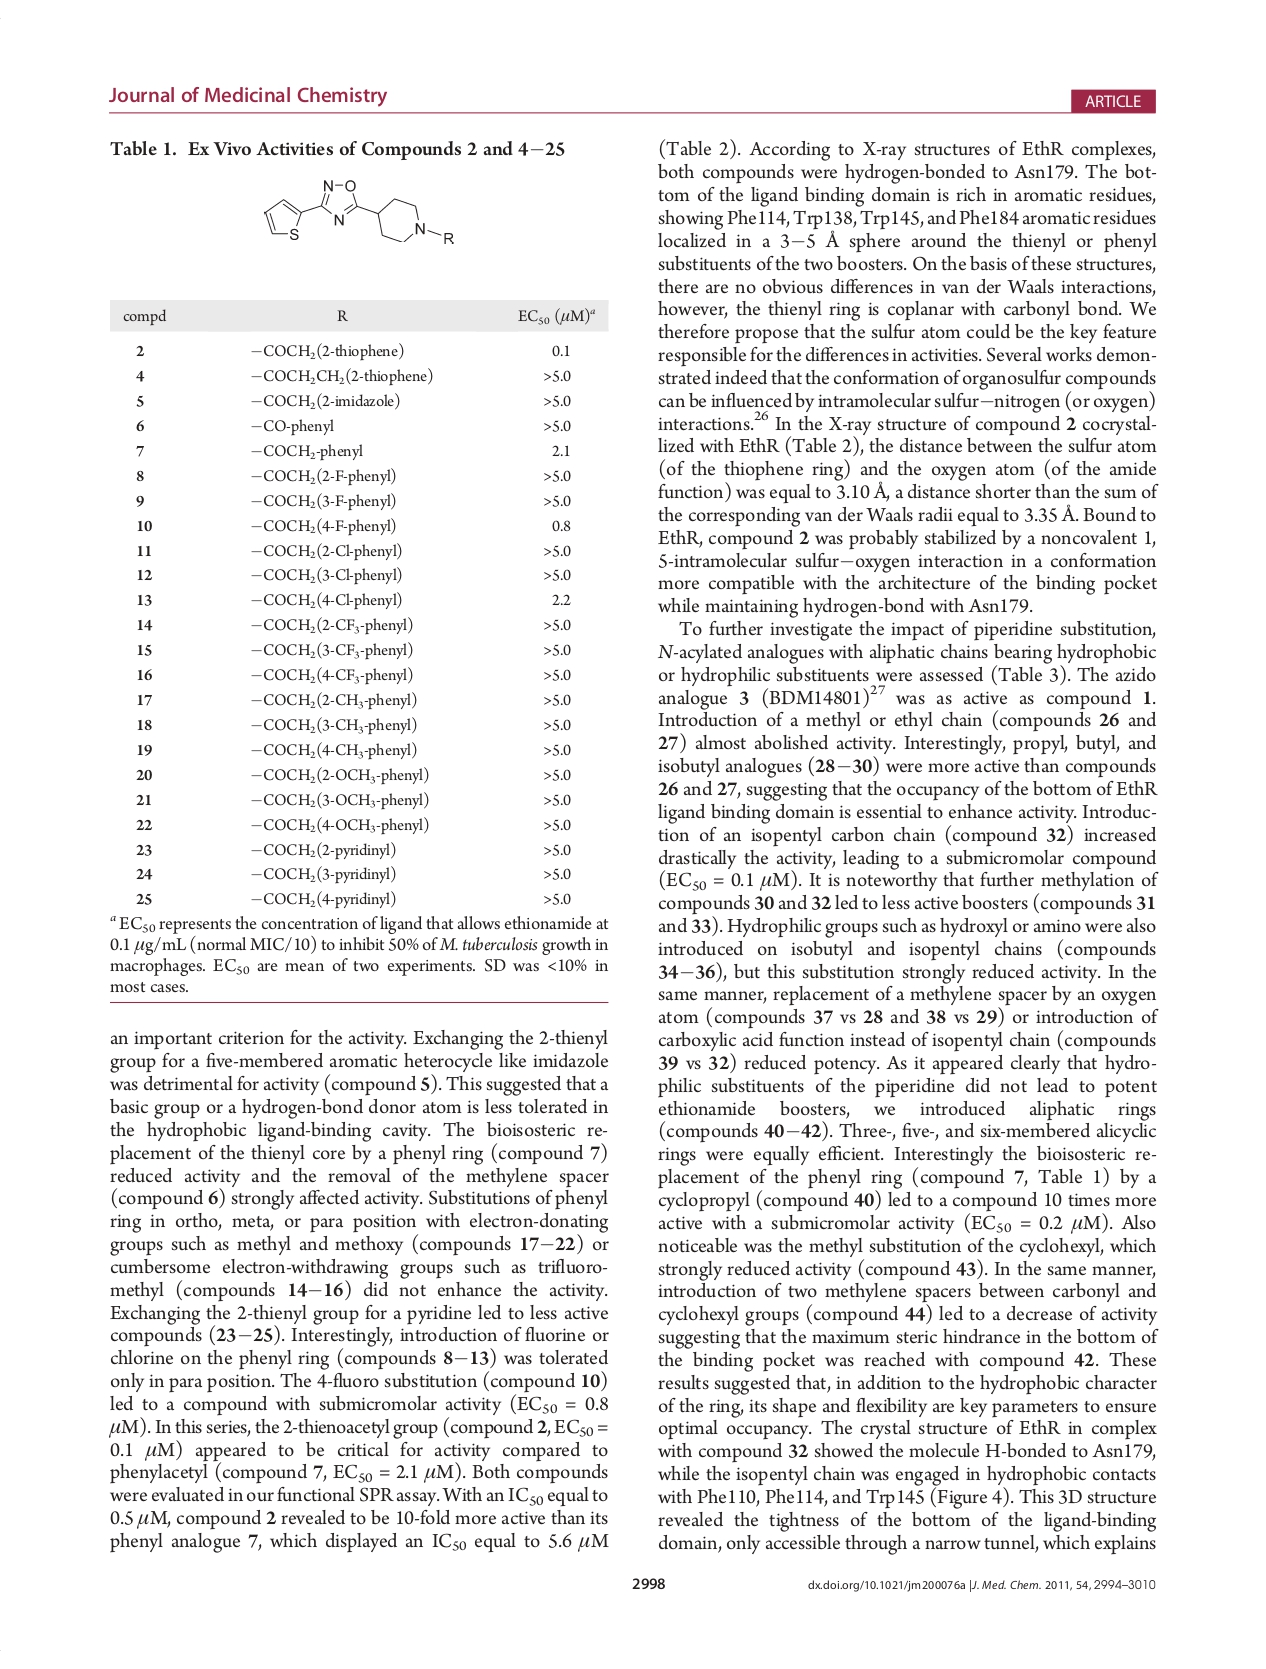exist_molecular: (261, 172, 457, 251)
